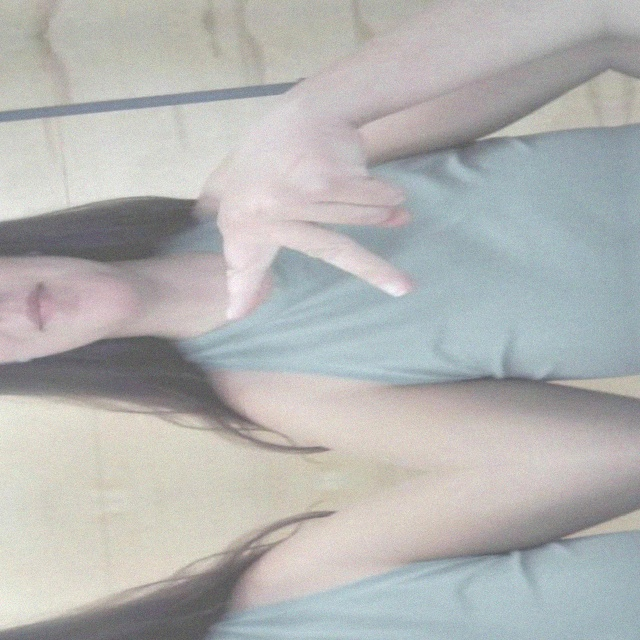Scissors: (163, 613, 518, 640)
